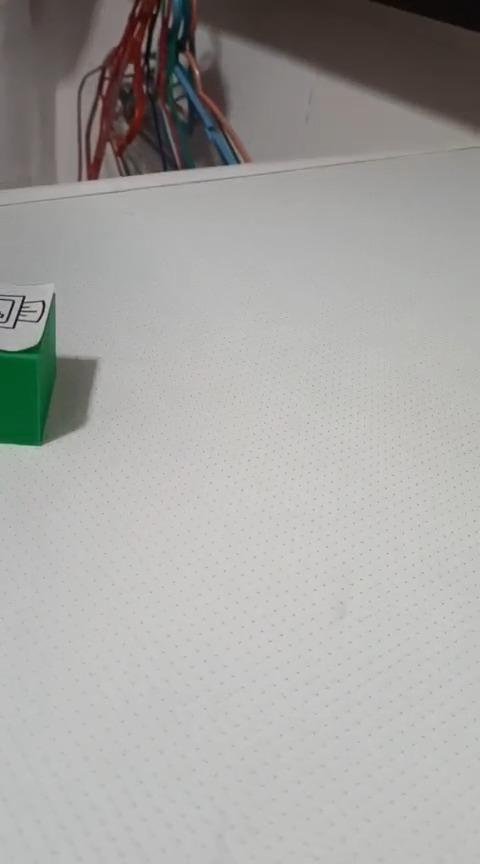Gauze: (0, 280, 57, 446)
